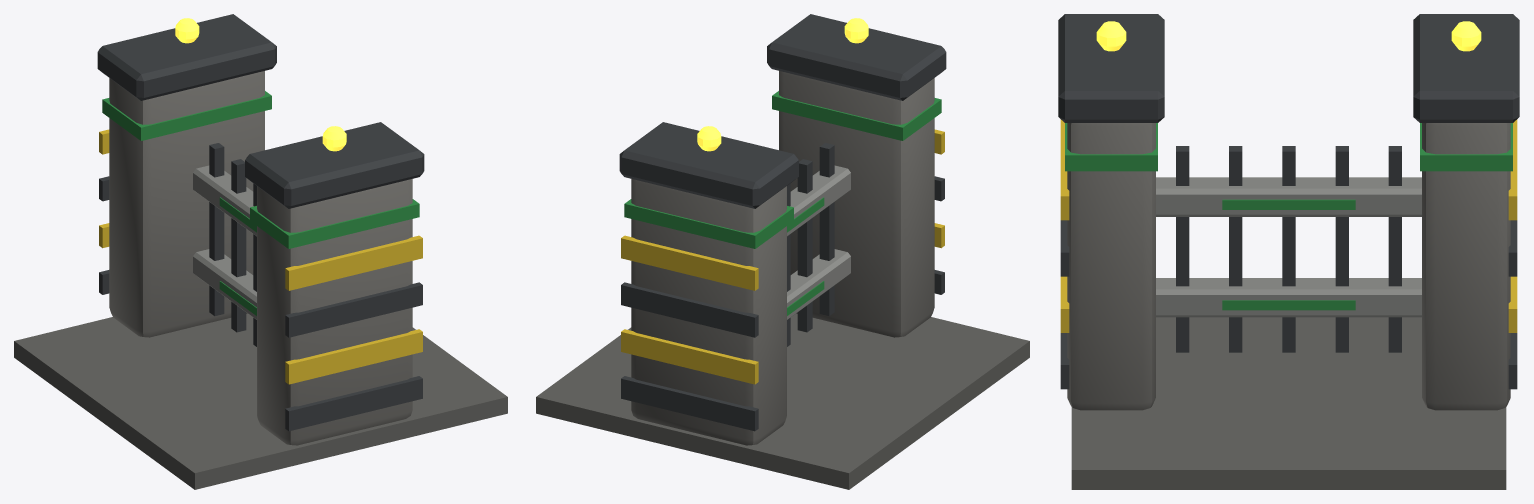
File: gate.glb
3 renders of one model, left to right at view 1: azimuth 30°, elevation 25°; view 2: azimuth 150°, elevation 25°; view 3: azimuth 270°, elevation 25°, orthographic. The views are drawn at different scales.
Visible parts, largest first — view 1: Gate_Walls, Gate_Foundation, Gate_Details, Gate_Frame; view 2: Gate_Walls, Gate_Foundation, Gate_Details, Gate_Frame; view 3: Gate_Walls, Gate_Foundation, Gate_Details, Gate_Frame.
Part boxes in pixels (<box>): Gate_Walls: <box>109,71,412,445</box>; Gate_Foundation: <box>14,313,507,489</box>; Gate_Details: <box>99,18,422,431</box>; Gate_Frame: <box>97,14,424,208</box>; Gate_Walls: <box>631,71,934,445</box>; Gate_Foundation: <box>536,313,1029,489</box>; Gate_Details: <box>621,18,944,431</box>; Gate_Frame: <box>619,14,946,208</box>; Gate_Walls: <box>1067,123,1510,410</box>; Gate_Foundation: <box>1071,317,1506,489</box>; Gate_Details: <box>1060,21,1517,389</box>; Gate_Frame: <box>1058,14,1519,122</box>.
Bounding box in the file's own units: 0.98 × 0.935 × 1.04.
